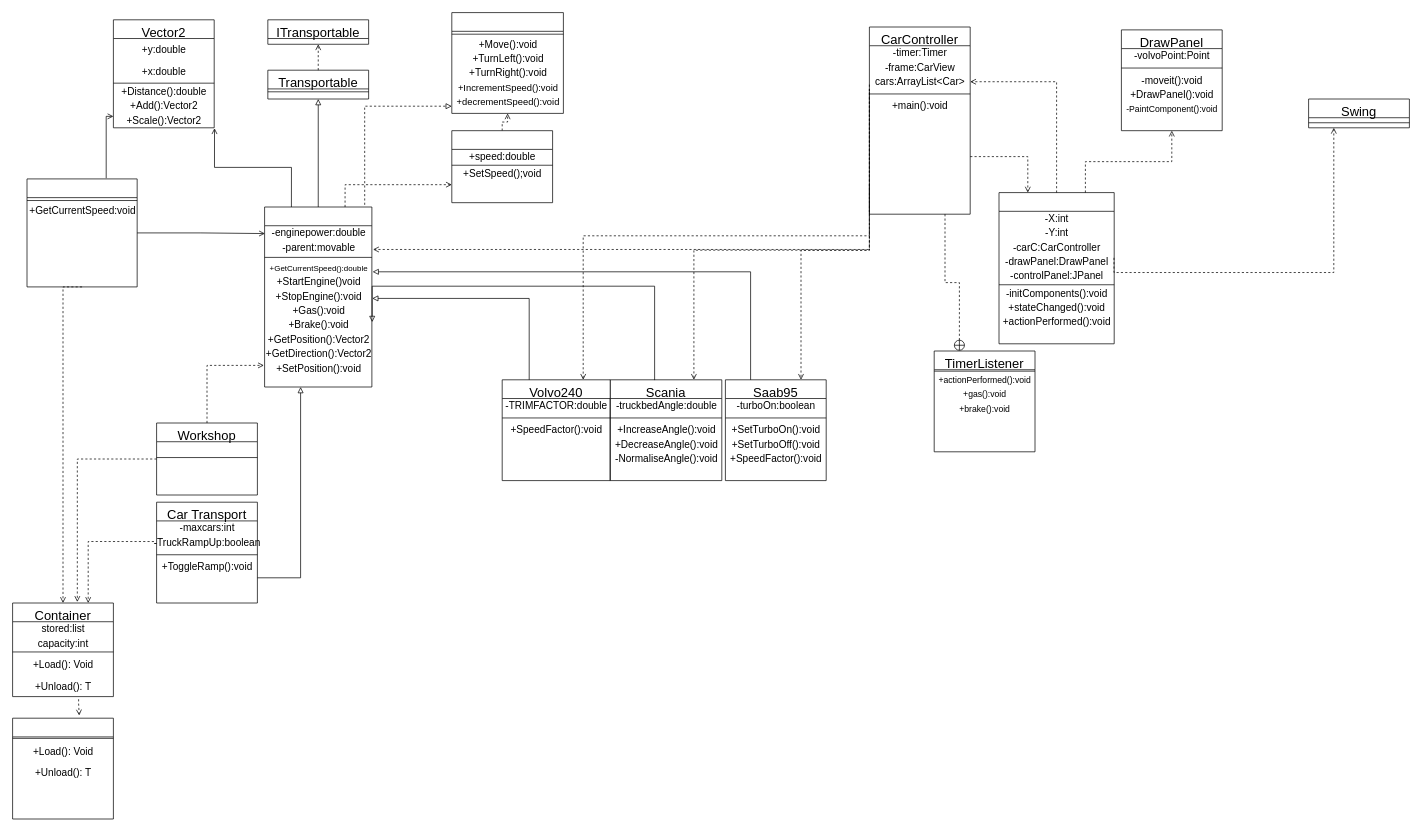
Some shapes in this 1422 by 832 pixel diagram are drawn without their labels. Each missing label, with the box of its shape:
Car: (264, 206, 372, 387)
CarFerry: (26, 178, 137, 287)
CarView: (998, 192, 1114, 344)
IContainer: (12, 717, 113, 819)
IMovable: (451, 12, 563, 113)
Movable: (451, 130, 553, 203)
